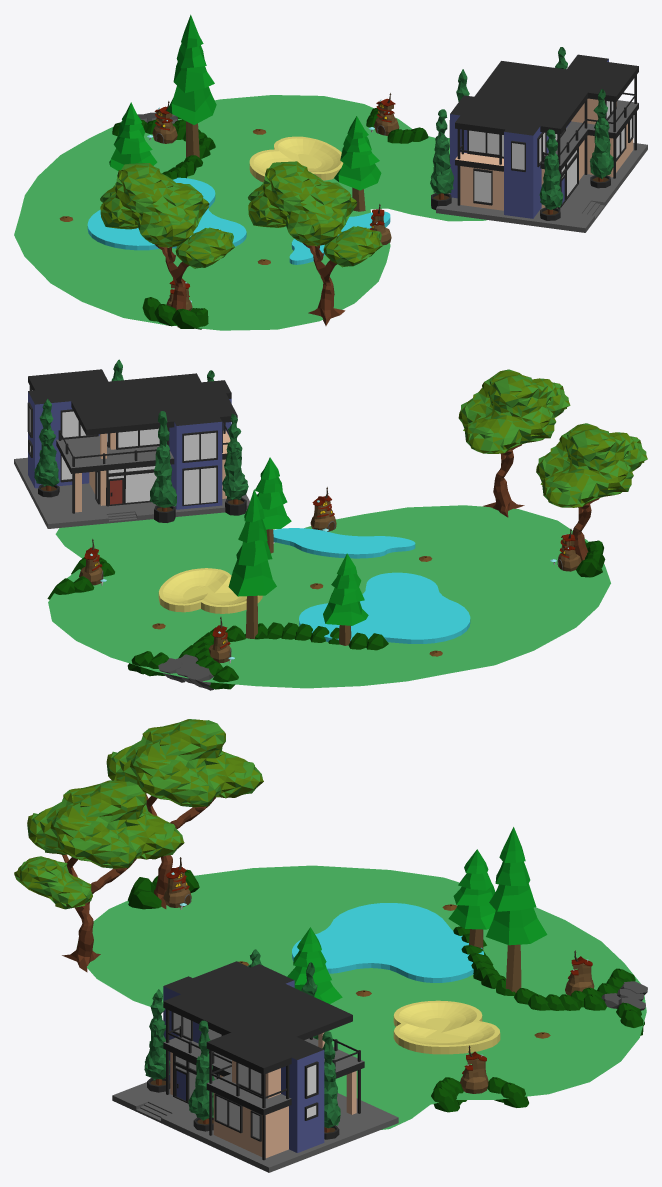
The model's file is Level design test MediumHardlevel.fbx.
The picture shows the model from 3 angles, top to bottom: view 1: azimuth 30°, elevation 25°; view 2: azimuth 150°, elevation 25°; view 3: azimuth 270°, elevation 25°; orthographic projection. The views are drawn at different scales.
Visible parts, largest first — view 1: Plane.004, 1ModernHouse, TreeBase.009, TreeBase.007, TallTree.001, Cone.005, Window.009, Cylinder.003, Cylinder.004, Cone.006, Cone.004, Fence (+5 smaller); view 2: Plane.004, 1ModernHouse, TreeBase.009, TreeBase.007, Cylinder.003, Window.009, TallTree.001, Cone.005, Cylinder.004, Cylinder.005, Cone.004, BigWindow&Door.001 (+7 smaller); view 3: Plane.004, 1ModernHouse, TreeBase.009, TreeBase.007, Cylinder.003, Cylinder.004, Cone.005, TallTree.001, Window.009, Cone.004, Fence, Cone.006 (+5 smaller).
Part boxes in pixels (<box>): Plane.004: <box>14,95,486,330</box>; 1ModernHouse: <box>436,54,647,232</box>; TreeBase.009: <box>248,161,382,325</box>; TreeBase.007: <box>100,163,234,327</box>; TallTree.001: <box>430,47,613,209</box>; Cone.005: <box>167,14,216,157</box>; Window.009: <box>449,101,633,205</box>; Cylinder.003: <box>87,177,246,250</box>; Cylinder.004: <box>249,136,343,182</box>; Cone.006: <box>334,116,381,211</box>; Cone.004: <box>109,102,157,170</box>; Fence: <box>457,75,636,209</box>; Plane.004: <box>48,505,610,688</box>; 1ModernHouse: <box>14,369,249,528</box>; TreeBase.009: <box>458,369,570,517</box>; TreeBase.007: <box>536,423,647,561</box>; Cylinder.003: <box>299,572,470,643</box>; Window.009: <box>27,402,217,506</box>; TallTree.001: <box>34,359,248,507</box>; Cone.005: <box>228,489,276,638</box>; Cylinder.004: <box>158,568,262,613</box>; Cylinder.005: <box>273,528,415,558</box>; Cone.004: <box>323,553,368,645</box>; BigWindow&Door.001: <box>106,466,156,506</box>; Plane.004: <box>87,865,646,1129</box>; 1ModernHouse: <box>112,961,398,1172</box>; TreeBase.009: <box>14,780,184,972</box>; TreeBase.007: <box>106,719,263,908</box>; Cylinder.003: <box>292,903,483,982</box>; Cylinder.004: <box>393,1000,500,1054</box>; Cone.005: <box>486,827,547,992</box>; TallTree.001: <box>144,949,340,1128</box>; Window.009: <box>171,1012,318,1141</box>; Cone.004: <box>448,849,495,949</box>; Fence: <box>166,1009,360,1160</box>; Cone.006: <box>287,927,342,1003</box>.
Size of the model in its own units: 21696 by 5784 by 18427.
